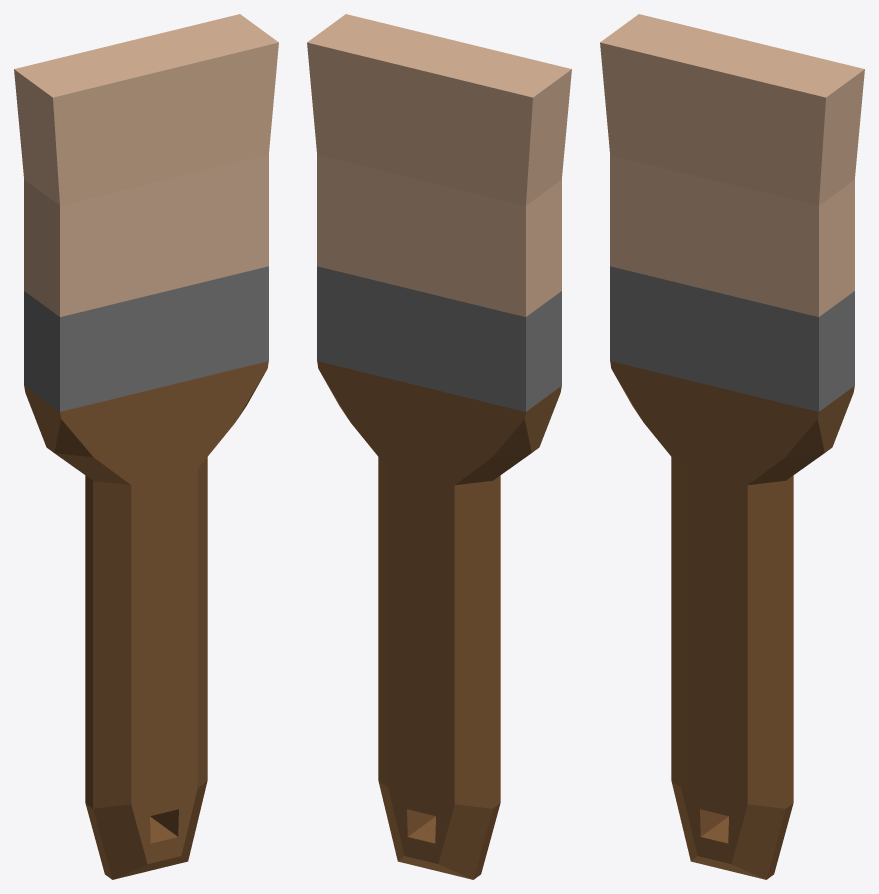
The model's file is Brush_01.fbx.
The picture shows the model from 3 angles, left to right: view 1: azimuth 30°, elevation 25°; view 2: azimuth 150°, elevation 25°; view 3: azimuth 330°, elevation 25°; orthographic projection.
Visible parts, largest first — view 1: Brush_01; view 2: Brush_01; view 3: Brush_01.
Boxes of the visible parts, x1,y1,x2,y2 form: Brush_01: (14,14,278,879); Brush_01: (307,14,571,879); Brush_01: (600,14,864,879).
Bounding box in the file's own units: 8.54 × 29.33 × 2.55.
